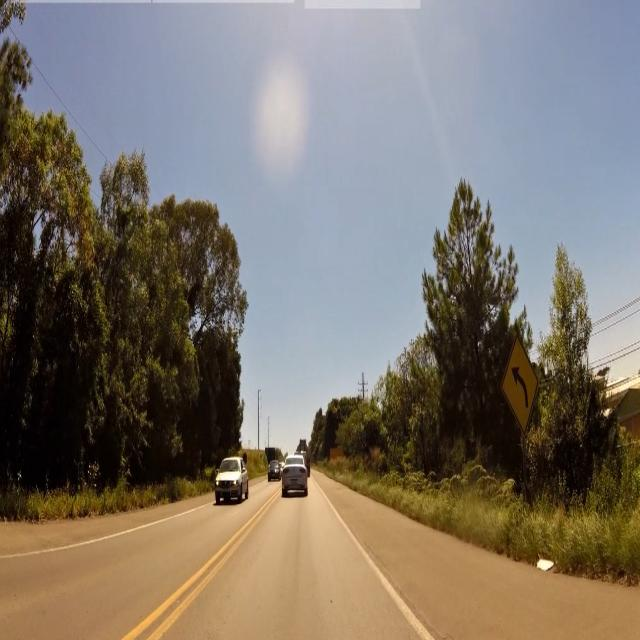A-2a: (500, 335, 540, 430)
